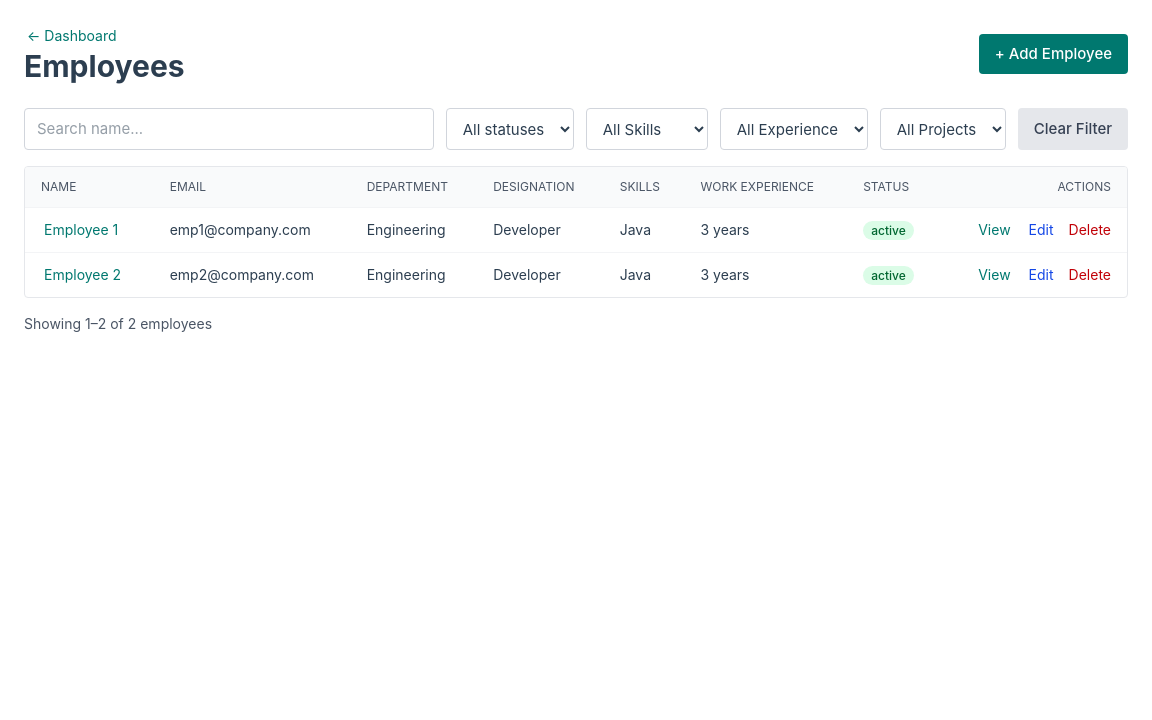
EmployeeListView › deletes an employee after confirmation and shows the message
This screenshot has width=1152, height=720.
Click the button "Delete" in the row of "Employee 1" at [1090, 230], box [1069,220,1111,240]
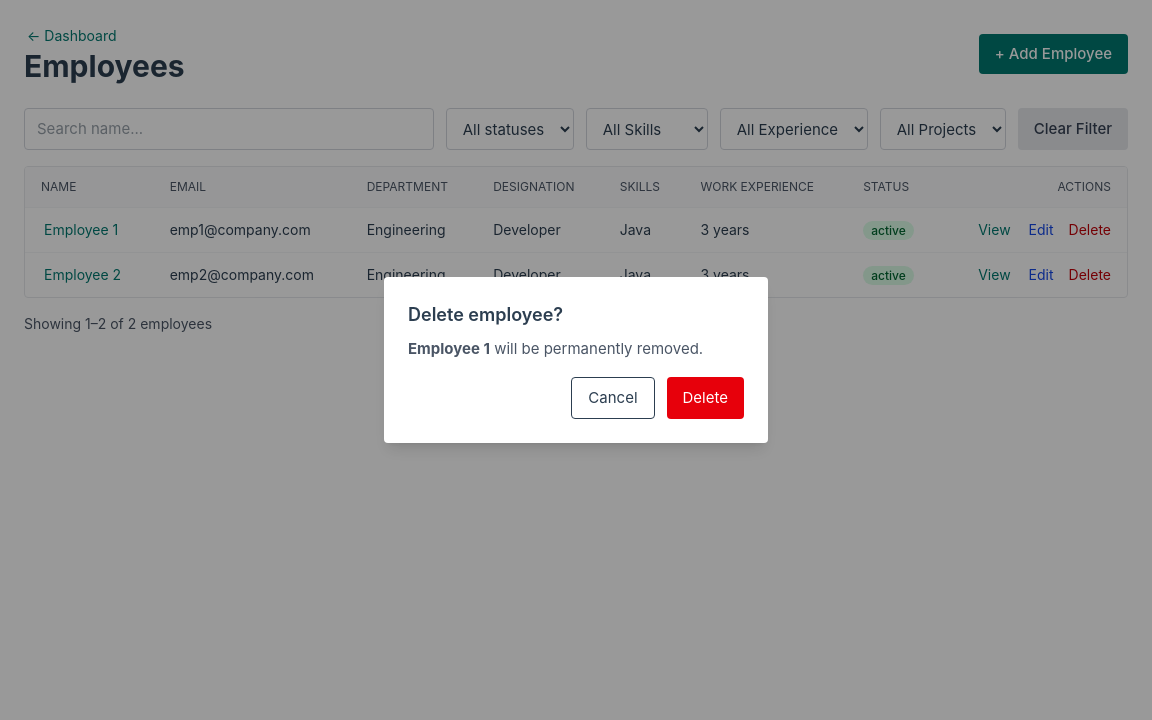
Result: the dialog shows "Delete employee?" at [408,304,563,325]
Click the button "Delete" at [705, 398], box [666,377,744,419]
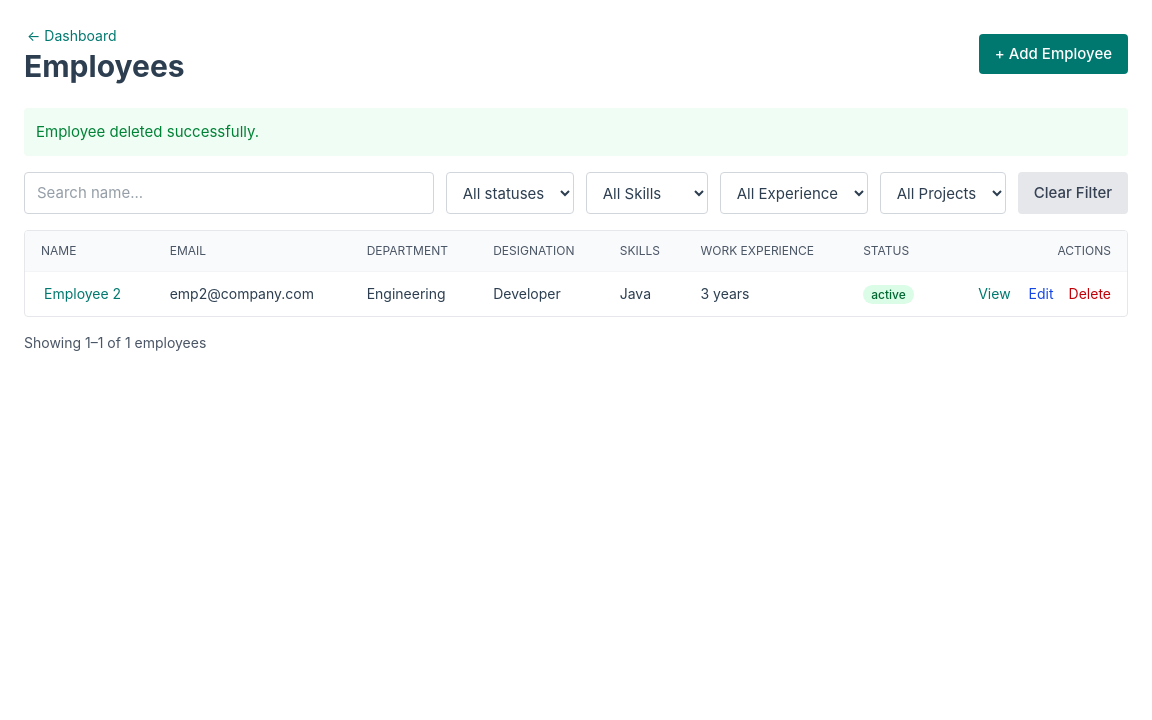
Result: the message "Employee deleted successfully." is shown at [24,108,1128,156]
